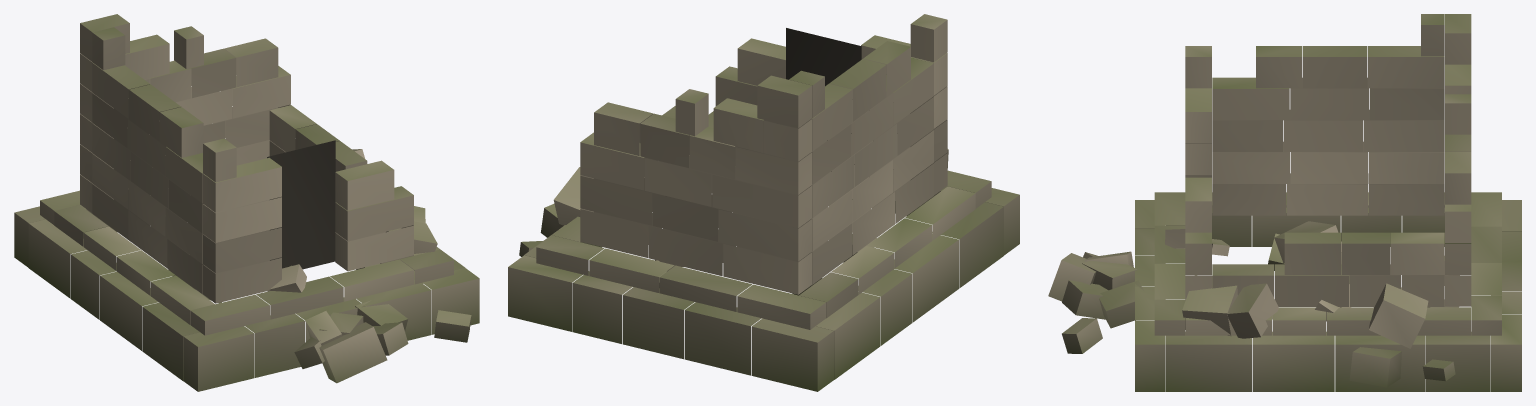
File: tombs_house_broken_mid.glb
3 views of the same model, side by side, from view 1: azimuth 30°, elevation 25°; view 2: azimuth 150°, elevation 25°; view 3: azimuth 270°, elevation 25° (orthographic). The views are drawn at different scales.
Visible parts, largest first — view 1: tombs_house_broken_mid; view 2: tombs_house_broken_mid; view 3: tombs_house_broken_mid.
Part boxes in pixels (bbox=[...]): tombs_house_broken_mid: bbox=[14, 14, 479, 391]; tombs_house_broken_mid: bbox=[508, 14, 1019, 391]; tombs_house_broken_mid: bbox=[1048, 14, 1521, 391].
Bounding box in the file's own units: 17.48 × 12.77 × 21.55.
